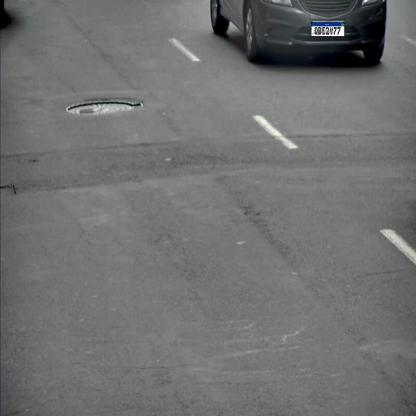PlacaM: (311, 22, 345, 37)
